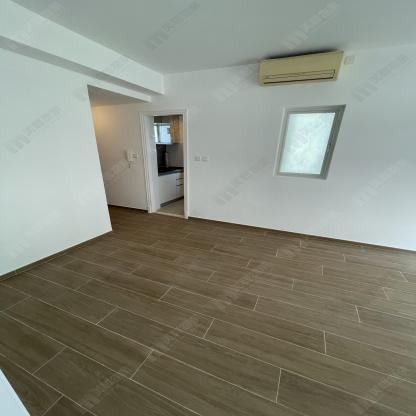AC: (259, 50, 346, 86)
